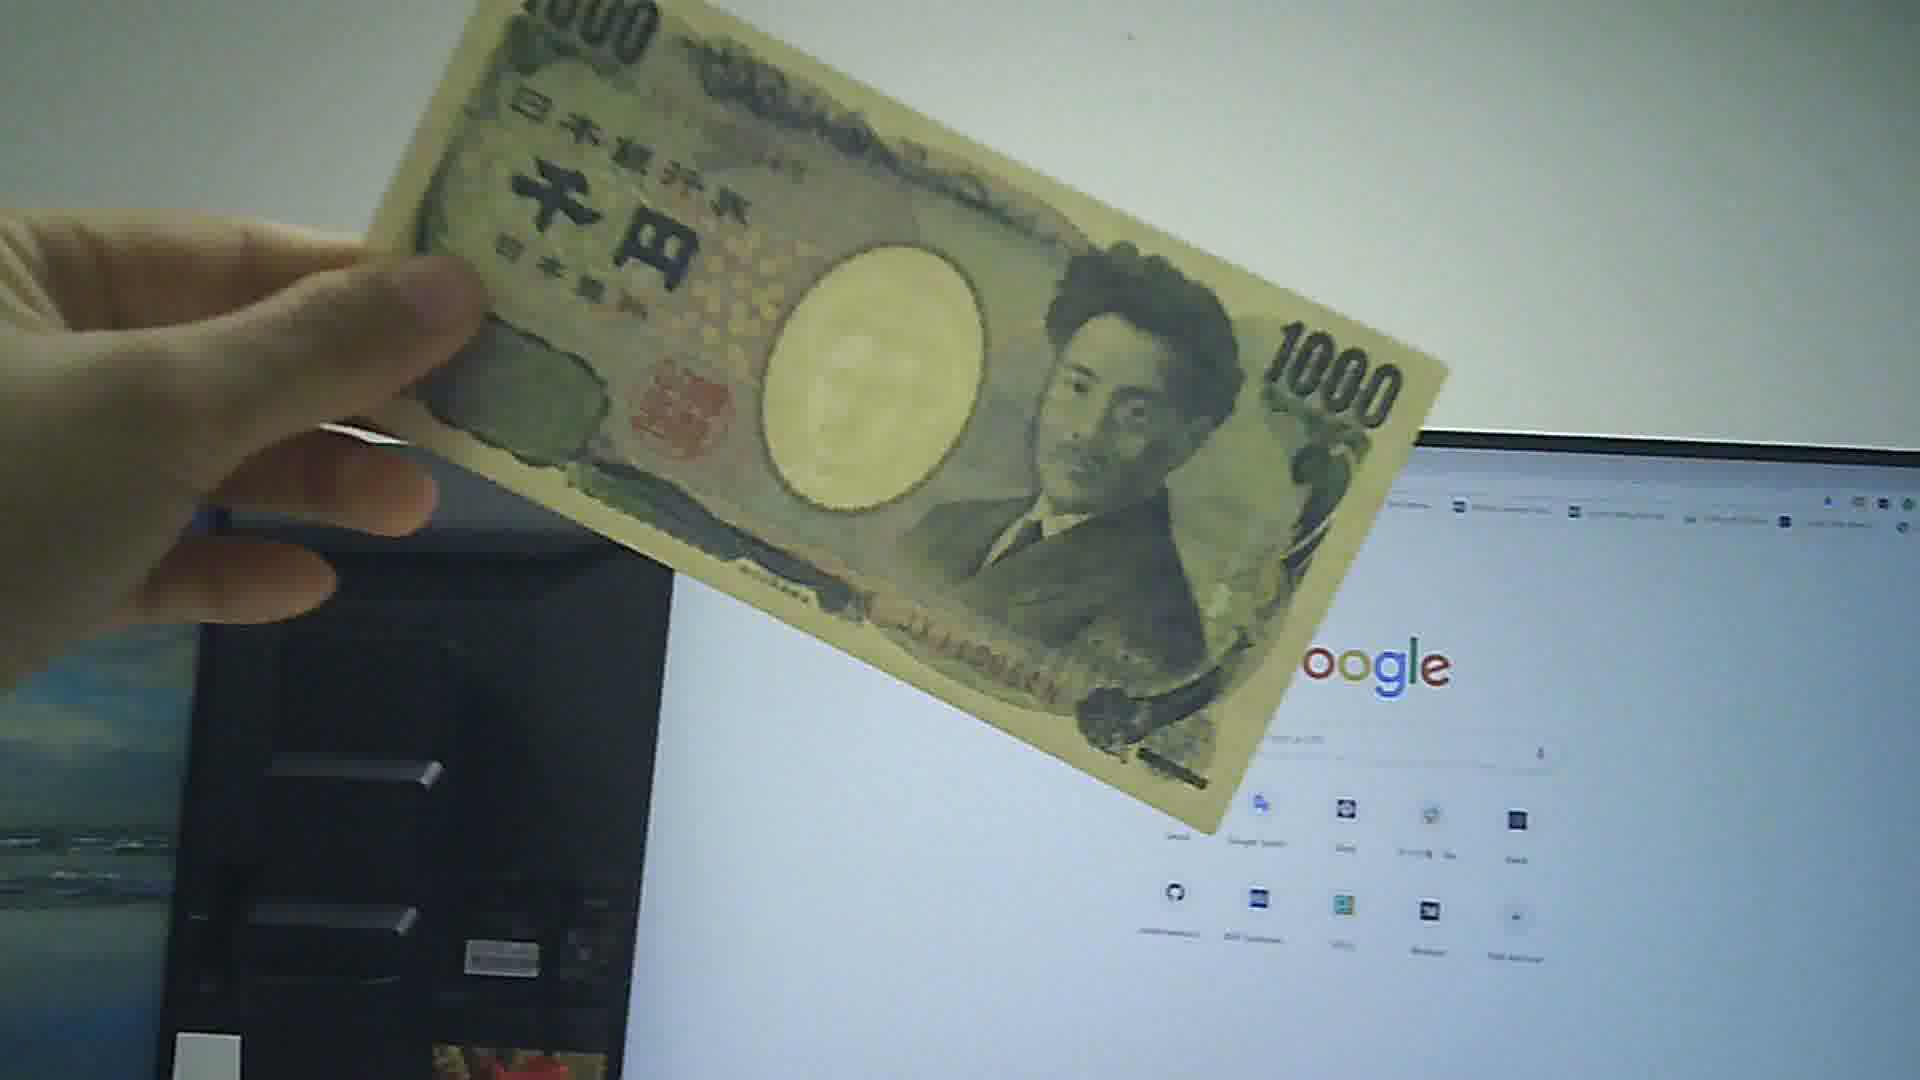1,000 Yen: (334, 7, 1443, 843)
